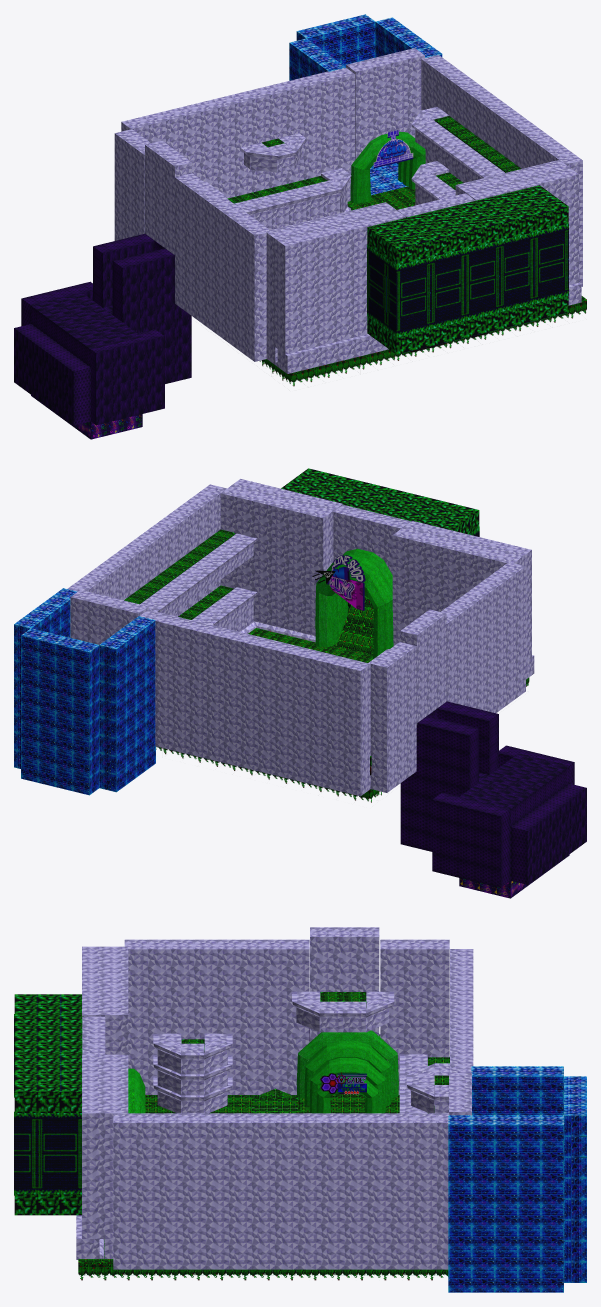
Rendered from TesteFase(separado).glb.
The picture shows the model from 3 angles, top to bottom: view 1: azimuth 30°, elevation 25°; view 2: azimuth 150°, elevation 25°; view 3: azimuth 270°, elevation 25°; orthographic projection. The views are drawn at different scales.
Visible parts, largest first — view 1: ParedeNormal.002, ParedeNormal.001, ParedeNormal.004, BlocoChão.002, ParedeNormal.003, BlocoSofá.002, BlocoSofá.006, ParedeNormal.008, BlocoSofá.001, BlocoSofá.004, ParedeNormal, BlocoChão.001 (+21 smaller); view 2: ParedeNormal.002, BlocoCristal.004, ParedeNormal, ParedeNormal.004, ParedeNormal.001, BlocoCristal.003, ParedeNormal.003, BlocoSofá.003, ParedeNormal.005, BlocoSofá.005, BlocoSofá.001, BlocoChão.002 (+17 smaller); view 3: ParedeNormal.003, ParedeNormal.004, BlocoCristal.002, BlocoChão.002, ParedeNormal.005, ParedeNormal, BlocoGrama.001, BlocoCristal.004, ParedeNormal.006, BlocoCristal.003, ParedeNormal.001, ParedeNormal.002 (+30 smaller).
Part boxes in pixels (x1,y1,x2,y2): ParedeNormal.002: [121, 68, 355, 201]; ParedeNormal.001: [265, 202, 405, 354]; ParedeNormal.004: [175, 173, 270, 361]; BlocoChão.002: [367, 185, 568, 265]; ParedeNormal.003: [421, 55, 582, 286]; BlocoSofá.002: [112, 248, 191, 383]; BlocoSofá.006: [91, 329, 164, 425]; ParedeNormal.008: [346, 48, 424, 159]; BlocoSofá.001: [14, 324, 90, 425]; BlocoSofá.004: [31, 293, 142, 367]; ParedeNormal: [455, 160, 578, 284]; BlocoChão.001: [367, 296, 568, 354]; ParedeNormal.002: [139, 609, 370, 796]; BlocoCristal.004: [21, 628, 99, 795]; ParedeNormal: [220, 479, 342, 623]; ParedeNormal.004: [441, 562, 525, 713]; ParedeNormal.001: [392, 521, 531, 661]; BlocoCristal.003: [99, 616, 155, 792]; ParedeNormal.003: [67, 484, 226, 616]; BlocoSofá.003: [400, 716, 478, 851]; ParedeNormal.005: [370, 642, 416, 792]; BlocoSofá.005: [432, 792, 510, 887]; BlocoSofá.001: [510, 784, 586, 884]; BlocoChão.002: [281, 468, 479, 534]; ParedeNormal.003: [113, 1113, 448, 1269]; ParedeNormal.004: [124, 939, 309, 1094]; BlocoCristal.002: [448, 1115, 563, 1292]; BlocoChão.002: [14, 994, 83, 1112]; ParedeNormal.005: [380, 939, 449, 1094]; ParedeNormal: [82, 1054, 128, 1238]; BlocoGrama.001: [78, 1094, 448, 1280]; BlocoCristal.004: [564, 1076, 586, 1282]; ParedeNormal.006: [310, 927, 379, 1041]; BlocoCristal.003: [471, 1066, 563, 1115]; ParedeNormal.001: [82, 946, 128, 1054]; ParedeNormal.002: [450, 949, 473, 1072].
Bounding box in the file's own units: 52 × 25.82 × 49.55.
Materials: 6 (6 with a texture image).
